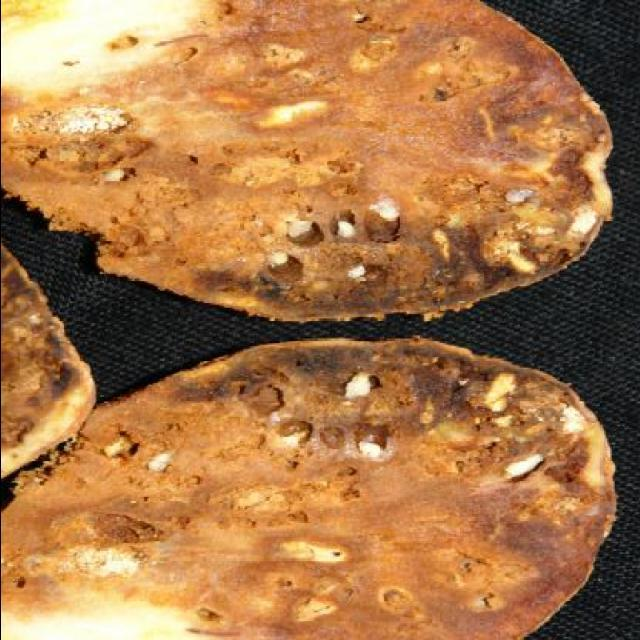Cookie: (0, 0, 614, 322), (1, 338, 617, 638), (0, 232, 94, 478)
